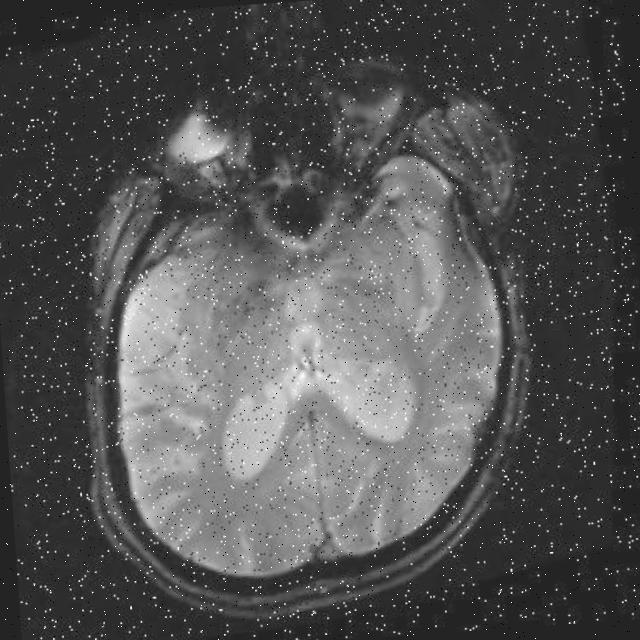EMCI: (360, 156, 476, 348)
